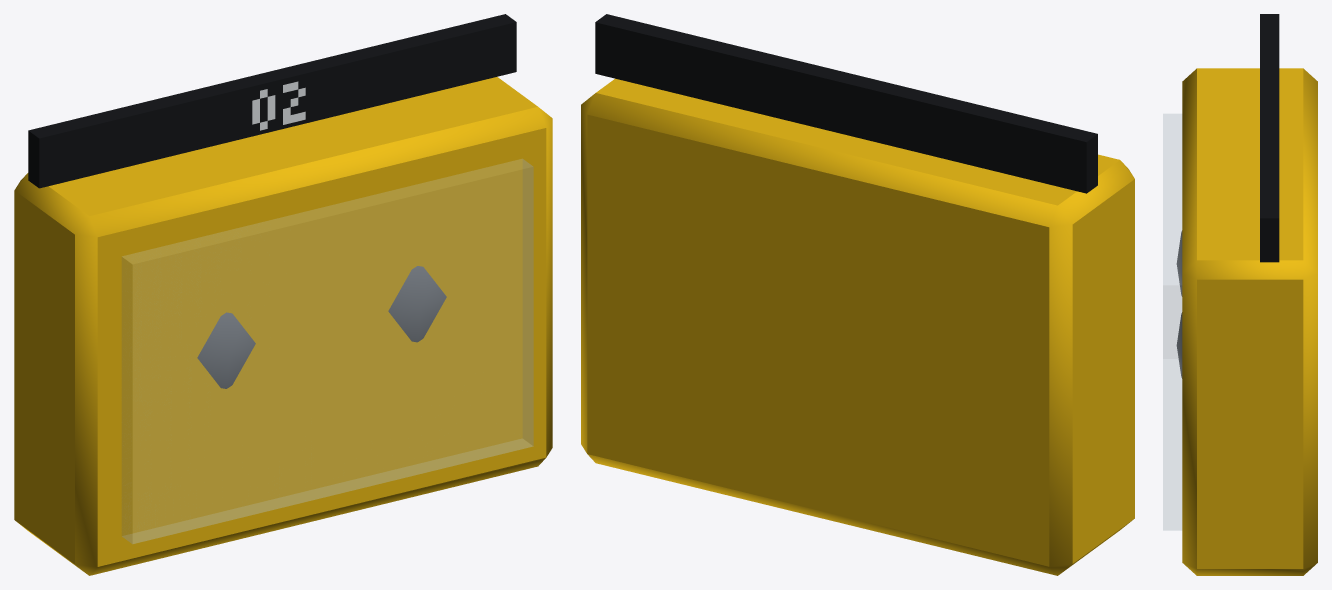
The model's file is safety_oxygen_mask_box.glb.
The picture shows the model from 3 angles, left to right: view 1: azimuth 30°, elevation 25°; view 2: azimuth 150°, elevation 25°; view 3: azimuth 270°, elevation 25°; orthographic projection. The views are drawn at different scales.
Visible parts, largest first — view 1: safety_oxygen_mask_box; view 2: safety_oxygen_mask_box; view 3: safety_oxygen_mask_box.
Boxes of the visible parts, box(x1,y1,x2,y2) form: safety_oxygen_mask_box: box(14, 14, 552, 575); safety_oxygen_mask_box: box(581, 14, 1134, 575); safety_oxygen_mask_box: box(1163, 14, 1317, 575).
Bounding box in the file's own units: 0.5 × 0.415 × 0.16.
